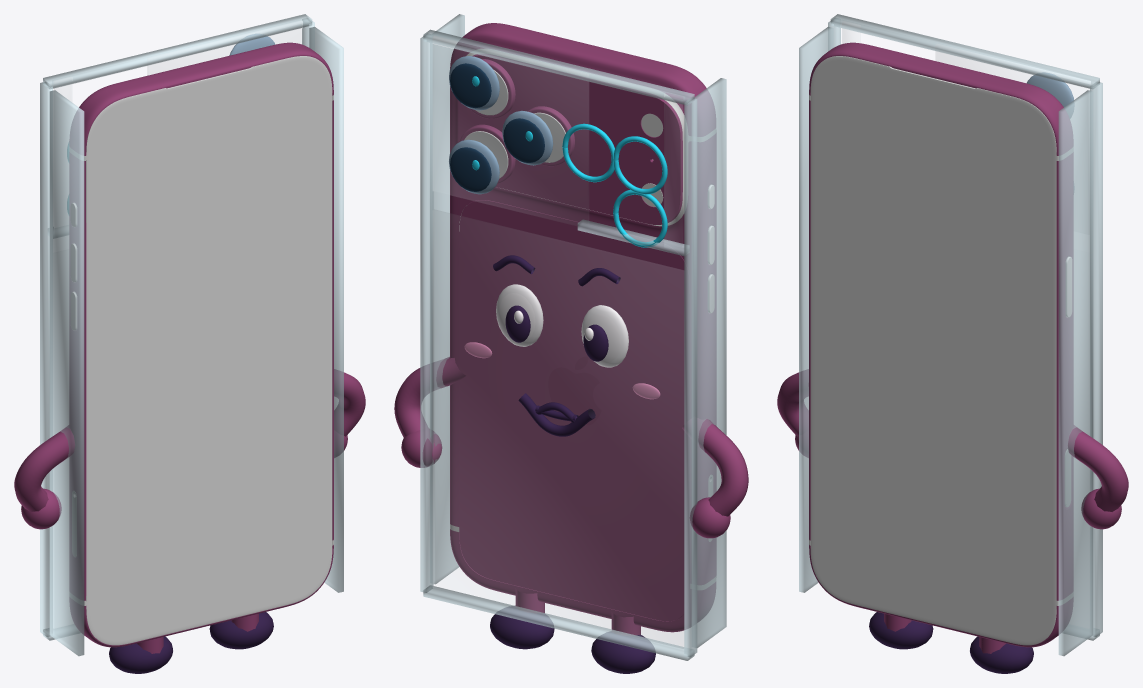
Rendered from phone-mascot.glb.
The picture shows the model from 3 angles, left to right: view 1: azimuth 30°, elevation 25°; view 2: azimuth 150°, elevation 25°; view 3: azimuth 330°, elevation 25°; orthographic projection.
Parts seen in each view (by area): view 1: LEFBrxOfPCQycDS, Case left side, Case right side, Case vertical rail.001, Case horizontal rail, Arm -1, Arm 1, Case upper right pane, Shoe -1, Shoe 1, Hand -1, Camera optic rim 0; view 2: LEFBrxOfPCQycDS, Case lower pane, Case left side, Case upper right pane, Case right side, Case vertical rail, Case vertical rail.001, Case horizontal rail, Case horizontal rail.001, Arm -1, Case upper left slim pane, Arm 1 (+19 smaller); view 3: LEFBrxOfPCQycDS, Case right side, Case left side, Case vertical rail, Case horizontal rail, Arm 1, Case upper right pane, Arm -1, Shoe 1, Shoe -1, Hand 1, Camera optic rim 0.
Boxes of the visible parts, x1,y1,x2,y2 form: LEFBrxOfPCQycDS: (69,42,333,647); Case left side: (49,90,84,656); Case right side: (309,26,343,592); Case vertical rail.001: (40,82,52,636); Case horizontal rail: (43,14,312,88); Arm -1: (14,425,74,511); Arm 1: (334,369,365,436); Case upper right pane: (148,28,302,74); Shoe -1: (109,636,172,673); Shoe 1: (209,612,273,649); Hand -1: (21,488,61,529); Camera optic rim 0: (229,34,275,55); LEFBrxOfPCQycDS: (450,23,716,632); Case lower pane: (433,210,683,648); Case left side: (692,78,726,647); Case upper right pane: (433,44,588,225); Case right side: (430,14,464,584); Case vertical rail: (420,34,433,592); Case vertical rail.001: (684,98,697,657); Case horizontal rail: (423,29,694,105); Case horizontal rail.001: (423,585,694,660); Arm -1: (682,418,748,516); Case upper left slim pane: (664,100,682,244); Arm 1: (394,357,465,437); LEFBrxOfPCQycDS: (809,42,1073,647); Case right side: (1058,90,1093,656); Case left side: (799,26,833,592); Case vertical rail: (1090,82,1102,636); Case horizontal rail: (830,14,1099,88); Arm 1: (1068,425,1128,511); Case upper right pane: (936,52,1089,106); Arm -1: (777,369,808,436); Shoe 1: (970,636,1033,673); Shoe -1: (869,612,933,649); Hand 1: (1081,488,1121,529); Camera optic rim 0: (1027,72,1073,117).
Bounding box in the file's own units: 1.31 × 2.16 × 0.292.
